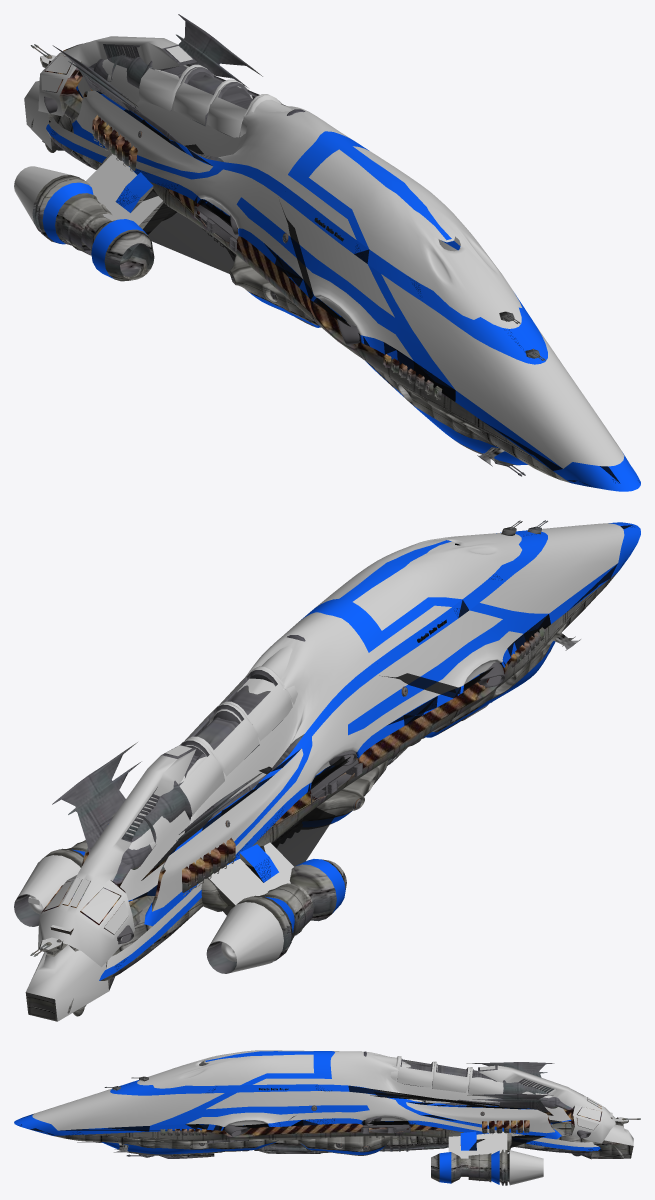
The picture shows the model from 3 angles, top to bottom: view 1: azimuth 30°, elevation 25°; view 2: azimuth 150°, elevation 25°; view 3: azimuth 270°, elevation 25°; orthographic projection. The views are drawn at different scales.
Visible parts, largest first — view 1: Endor Battlecruiser, mesh01; view 2: Endor Battlecruiser, mesh01; view 3: Endor Battlecruiser, mesh01.
Part boxes in pixels (x1,y1,x2,y2): Endor Battlecruiser: [14, 14, 624, 482]; mesh01: [42, 86, 640, 491]; Endor Battlecruiser: [14, 520, 624, 1021]; mesh01: [28, 522, 640, 980]; Endor Battlecruiser: [32, 1050, 640, 1185]; mesh01: [14, 1051, 601, 1184].
Bounding box in the file's own units: 112 × 88.06 × 460.
